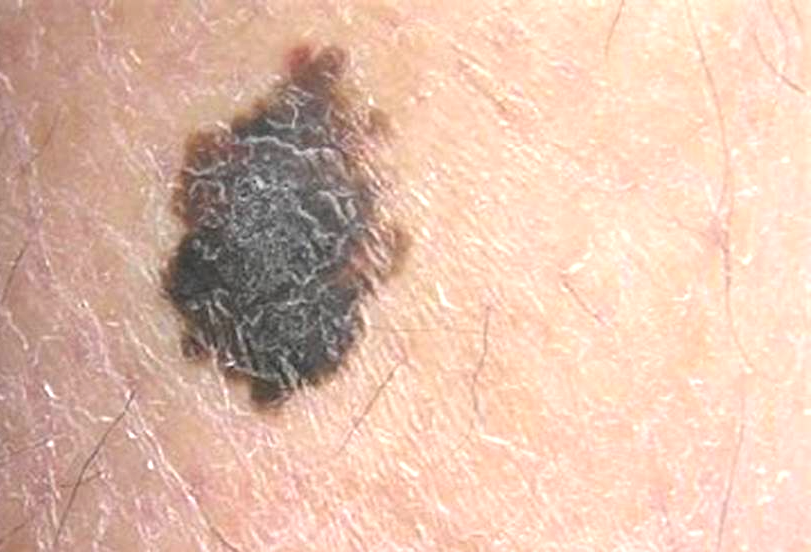Melanoma: (159, 47, 414, 415)
